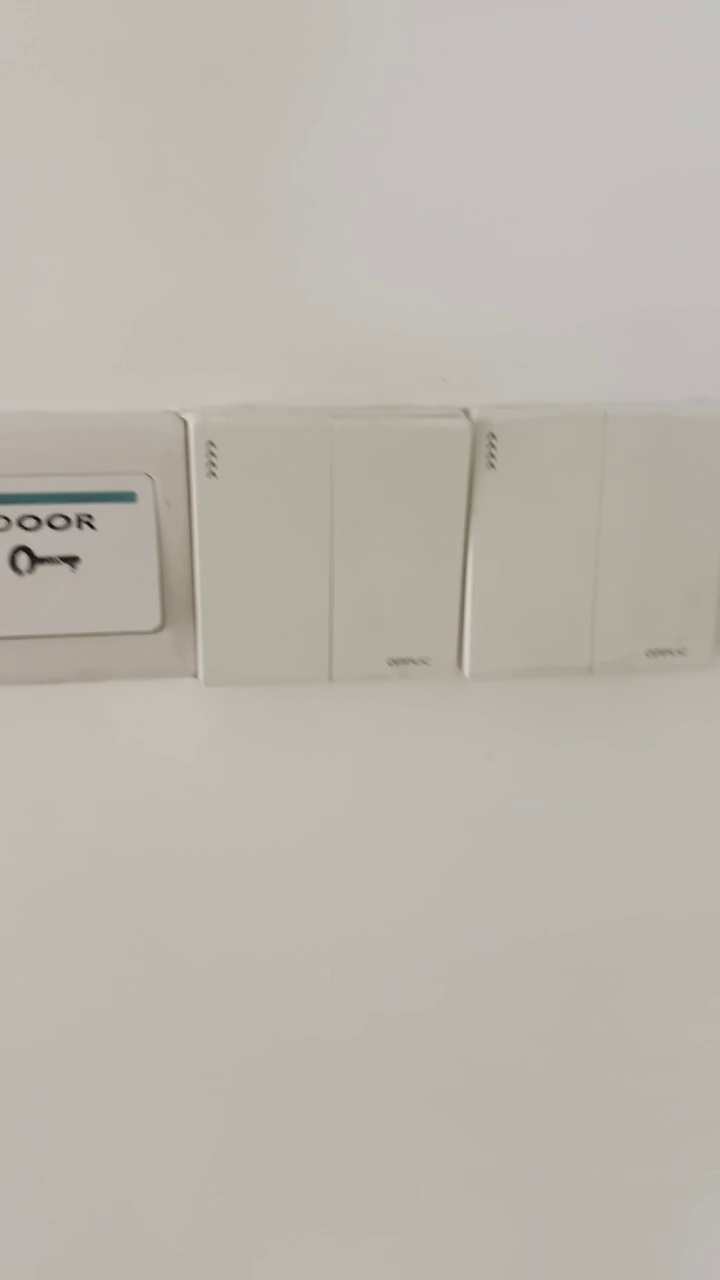button1: (193, 419, 329, 678), (471, 416, 597, 675), (338, 422, 457, 678), (607, 411, 714, 665)
